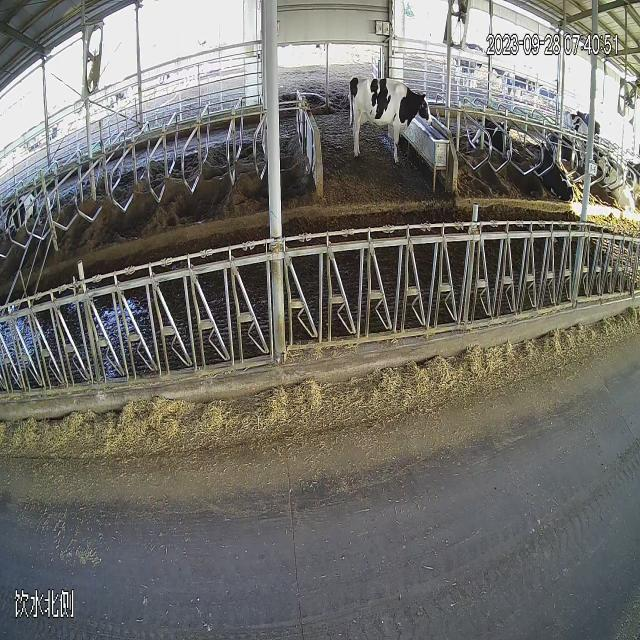lying down: (518, 132, 582, 210), (470, 98, 515, 191), (597, 149, 640, 218), (0, 186, 47, 246)
standing: (343, 69, 443, 175)
